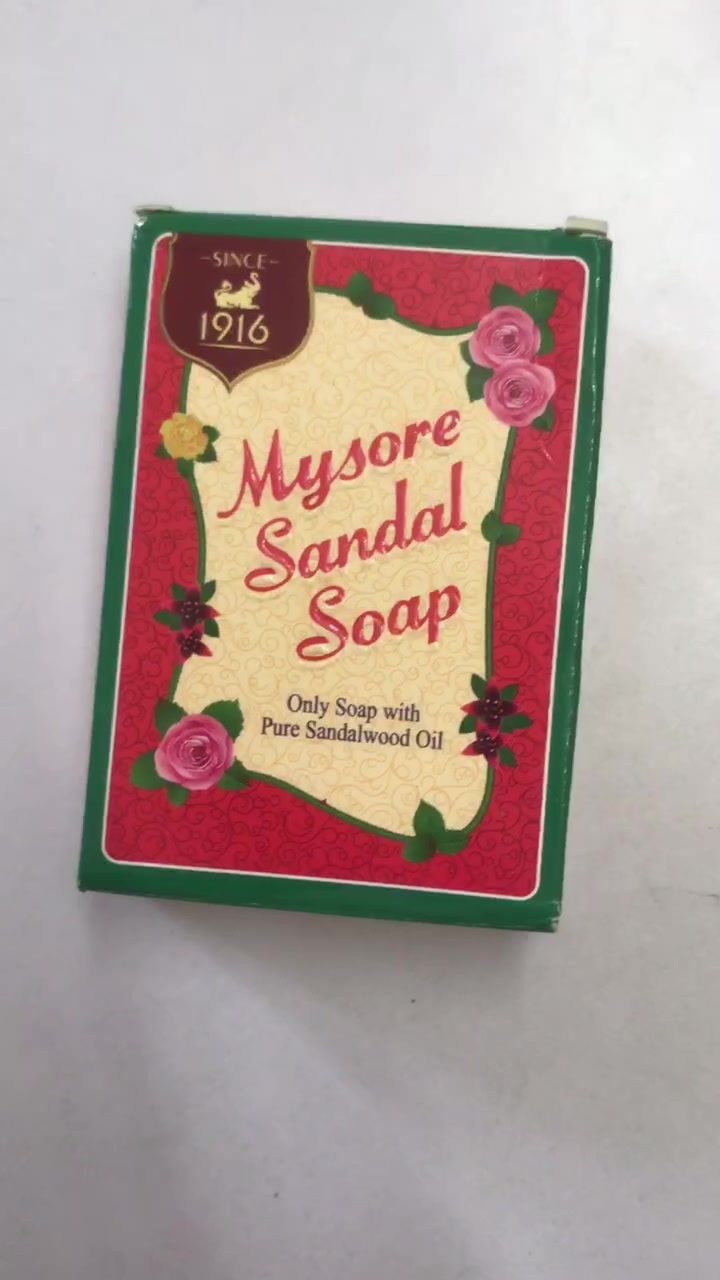mysore sandal soap: (74, 210, 613, 932)
